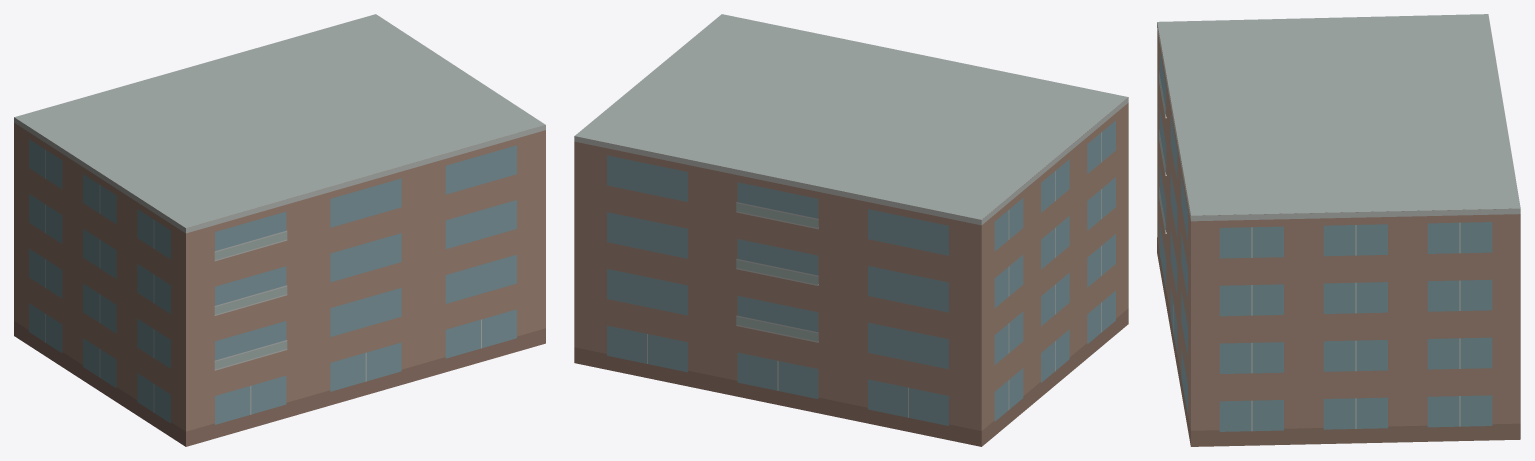
File: survey-upis-32757112.glb
3 views of the same model, side by side, from view 1: azimuth 30°, elevation 25°; view 2: azimuth 150°, elevation 25°; view 3: azimuth 270°, elevation 25° (orthographic). The views are drawn at different scales.
Visible parts, largest first — view 1: survey-upis-32757112.tmp; view 2: survey-upis-32757112.tmp; view 3: survey-upis-32757112.tmp.
Boxes of the visible parts, x1,y1,x2,y2 form: survey-upis-32757112.tmp: (14, 14, 545, 446); survey-upis-32757112.tmp: (574, 14, 1128, 446); survey-upis-32757112.tmp: (1157, 14, 1520, 446).
Bounding box in the file's own units: 18.91 × 10.1 × 14.41.
